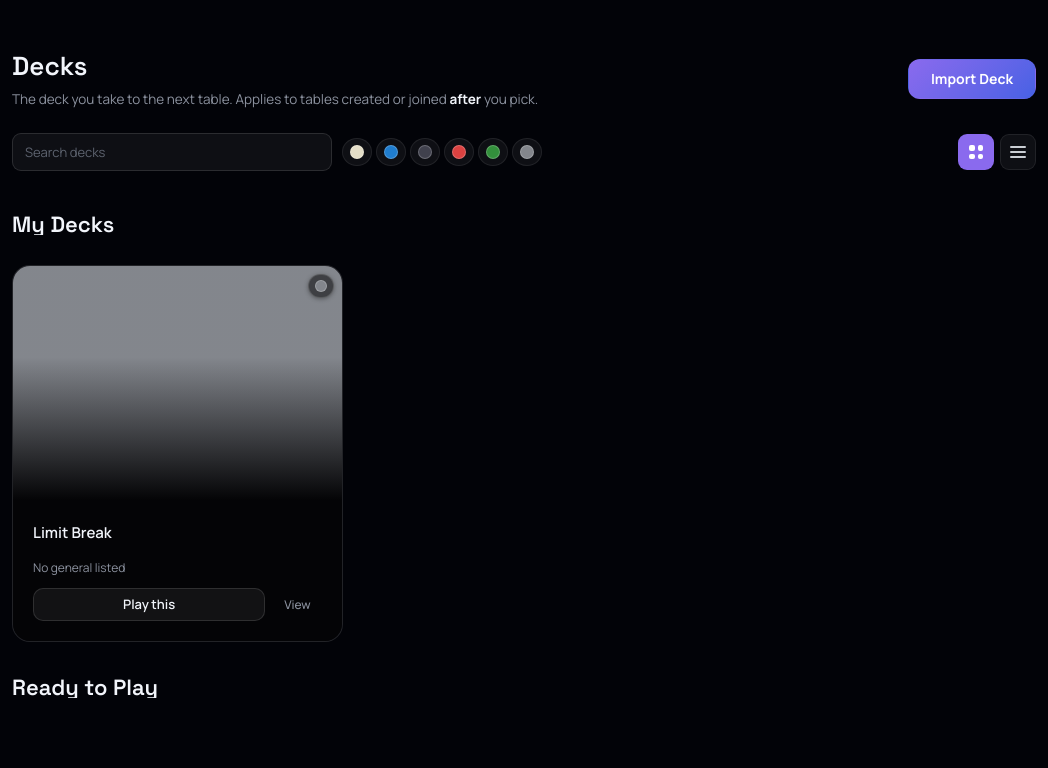
Scenario: DecksComponent › forces list view while filtering, and restores card view once the filter clears
This screenshot has width=1048, height=768.
Type "limit" into the field named "search decks" at [172, 152], box [12,133,332,171]
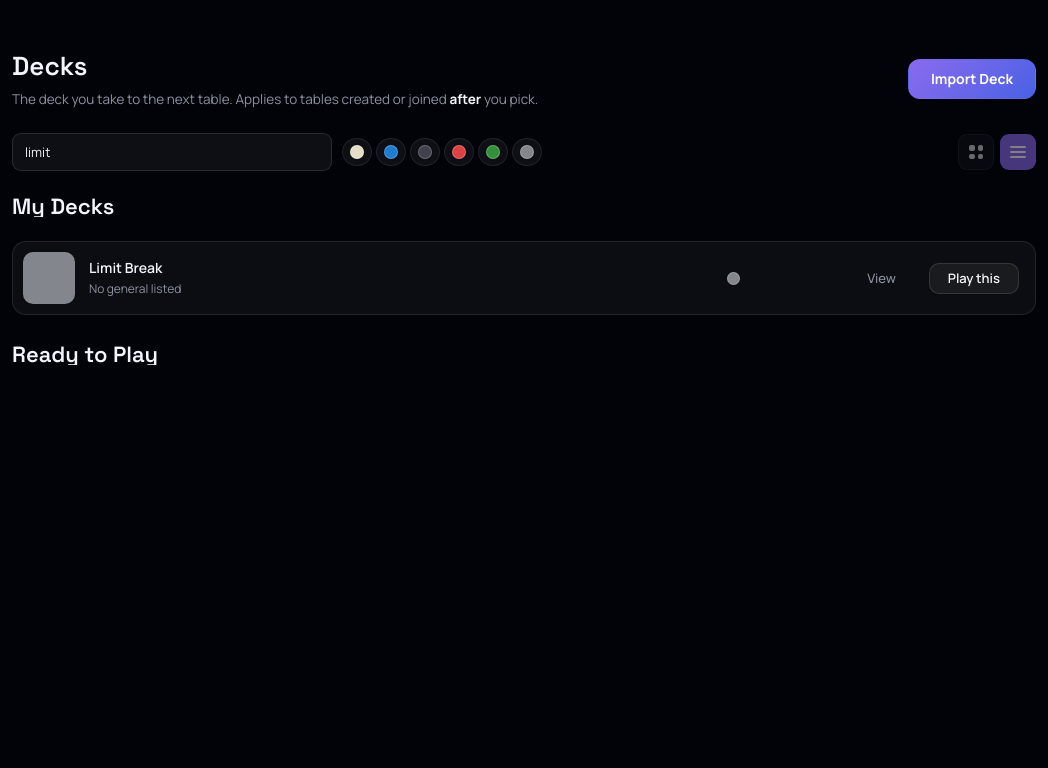
Now the number of elements with class "rows" is 1, box [12,195,1036,379]
Now the button named "card view" is disabled, box [958,134,994,170]
Now the button named "list view" is disabled, box [1000,134,1036,170]
Clear the field named "search decks" at [172, 152], box [12,133,332,171]
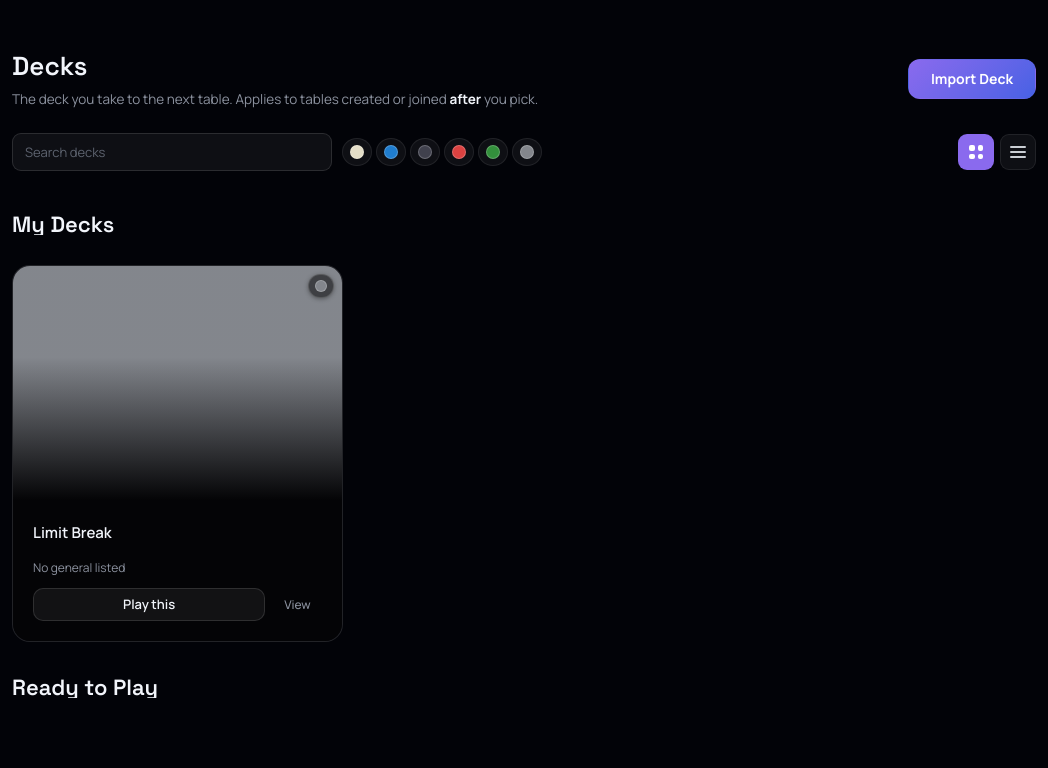
Now no elements with class "rows" are shown
Now the button named "card view" is enabled, box [958,134,994,170]
